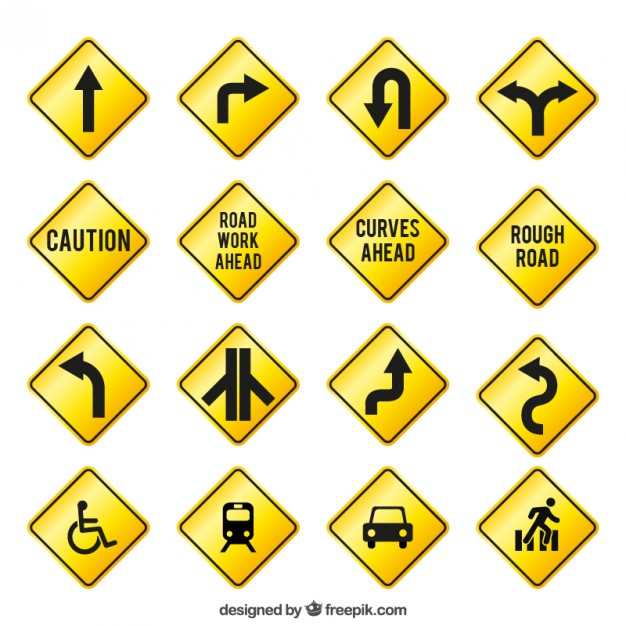left: (25, 318, 158, 453)
right: (172, 33, 311, 166)
